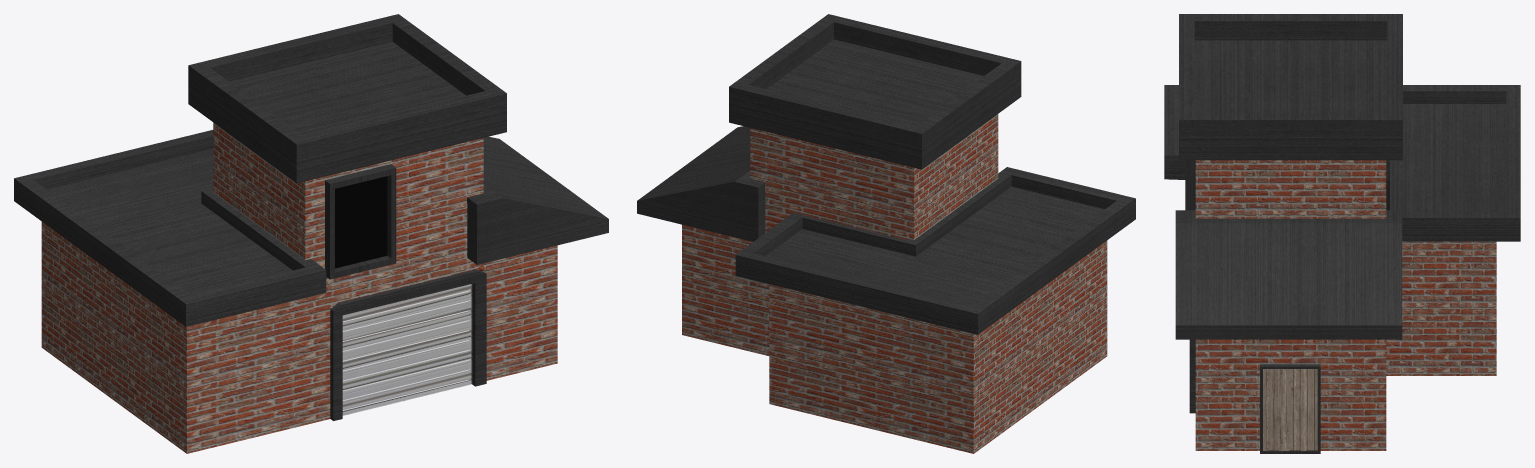
The model's file is building1.fbx.
The picture shows the model from 3 angles, left to right: view 1: azimuth 30°, elevation 25°; view 2: azimuth 150°, elevation 25°; view 3: azimuth 270°, elevation 25°; orthographic projection. The views are drawn at different scales.
Visible parts, largest first — view 1: building1; view 2: building1; view 3: building1.
Part boxes in pixels (x1=…): building1: x1=14, y1=14, x2=608, y2=453; building1: x1=637, y1=14, x2=1135, y2=453; building1: x1=1164, y1=14, x2=1520, y2=453.
Size of the model in its own units: 43.28 by 28.14 by 30.12.
